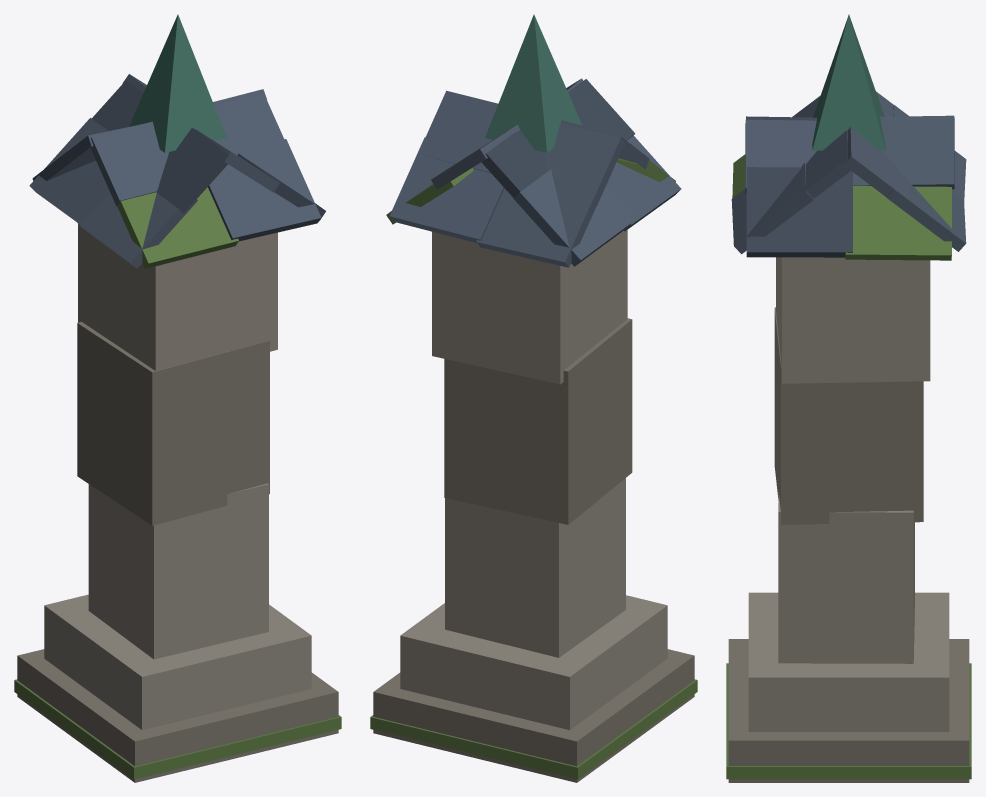
The model's file is fence_corner.obj.
3 views of the same model, side by side, from view 1: azimuth 30°, elevation 25°; view 2: azimuth 150°, elevation 25°; view 3: azimuth 270°, elevation 25° (orthographic). The views are drawn at different scales.
Bounding box in the file's own units: 0.3672 × 1.18 × 0.3672.
